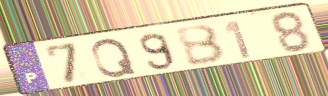1: (224, 18, 253, 60)
7: (42, 42, 82, 86)
8: (270, 10, 315, 55)
9: (138, 32, 177, 71)
B: (173, 23, 229, 68)
Q: (89, 37, 139, 79)
